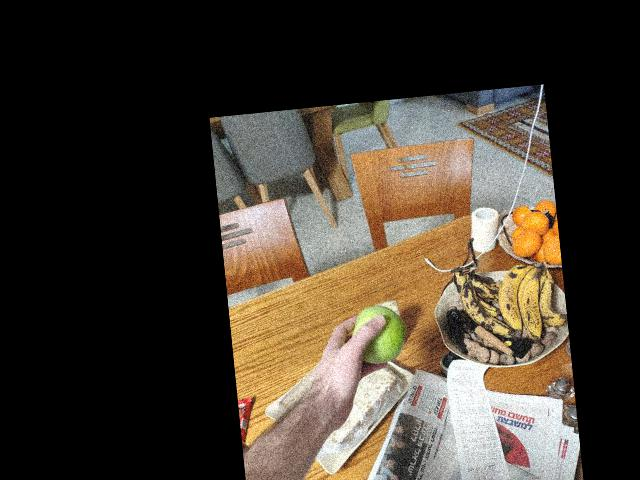apple: (348, 301, 408, 368)
